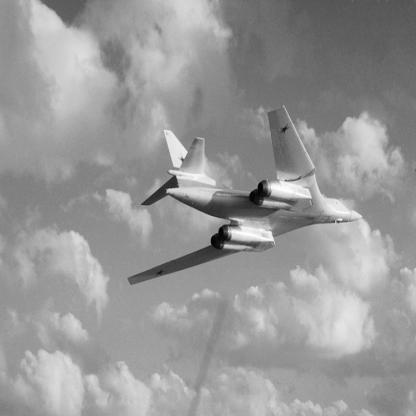Tu160: (128, 106, 364, 286)
